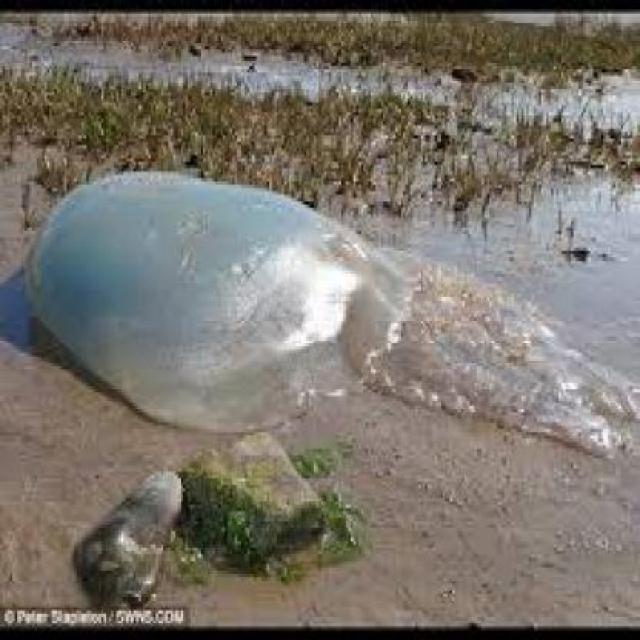Jellyfish: (22, 162, 638, 450)
